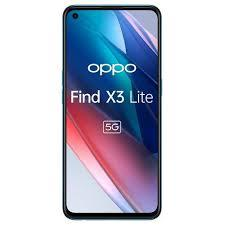Smartphone: (65, 8, 156, 214)
